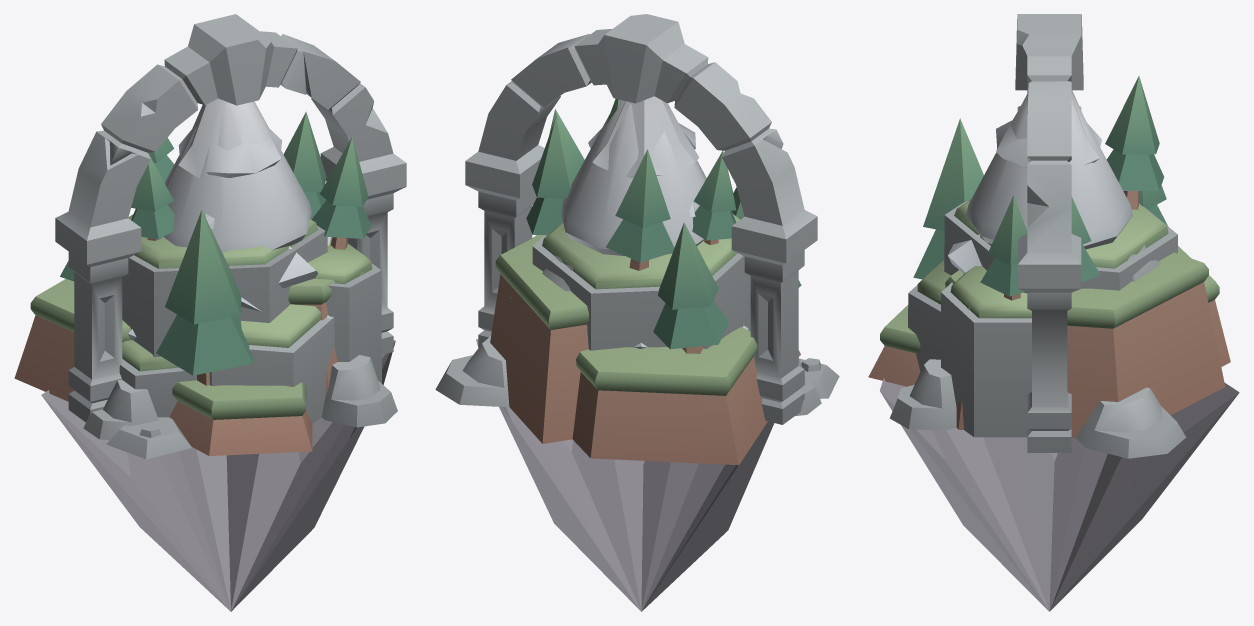
File: env_b.glb
3 views of the same model, side by side, from view 1: azimuth 30°, elevation 25°; view 2: azimuth 150°, elevation 25°; view 3: azimuth 270°, elevation 25° (orthographic).
Parts seen in each view (by area): view 1: island.0, arch.0, island.1, snowpine.1, snowpine.0; view 2: island.0, arch.0, island.1, snowpine.1, snowpine.0; view 3: island.0, island.1, arch.0, snowpine.1, snowpine.0.
Part boxes in pixels (x1,y1,x2,y2): island.0: [14, 111, 397, 611]; arch.0: [55, 14, 406, 422]; island.1: [119, 137, 381, 423]; snowpine.1: [163, 101, 311, 252]; snowpine.0: [127, 98, 332, 340]; island.0: [435, 117, 839, 611]; arch.0: [465, 14, 817, 424]; island.1: [510, 99, 750, 350]; snowpine.1: [561, 100, 706, 255]; snowpine.0: [588, 96, 748, 348]; island.0: [868, 118, 1239, 611]; island.1: [908, 76, 1177, 437]; arch.0: [1015, 14, 1083, 452]; snowpine.1: [966, 94, 1132, 249]; snowpine.0: [948, 90, 1101, 293].
Size of the model in its own units: 5.59 by 9.55 by 5.48.
